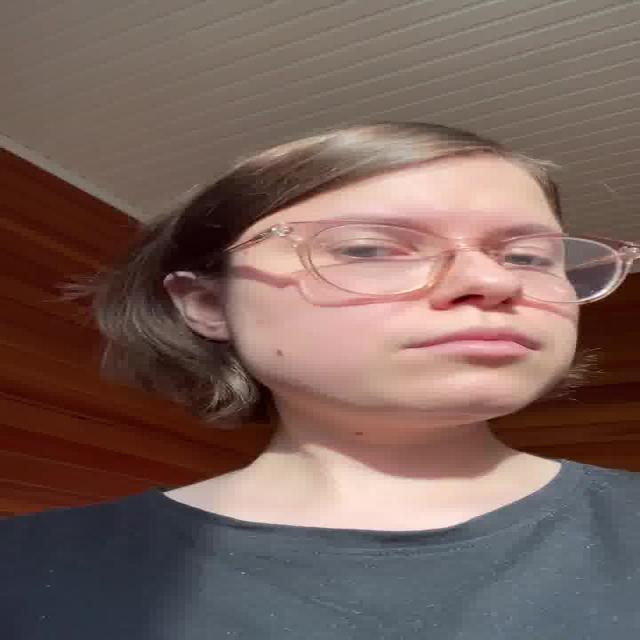earlobe: (162, 271, 234, 342)
